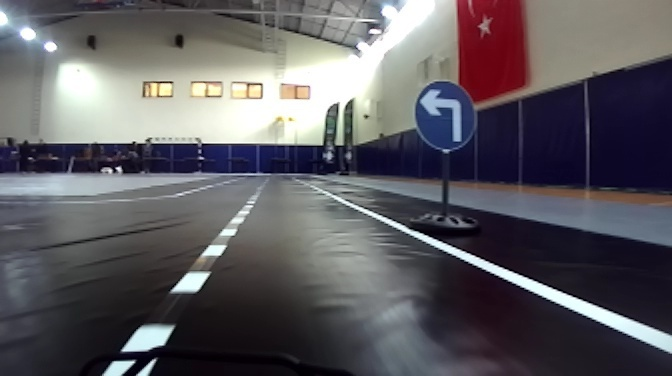sola_donus: (416, 82, 482, 154)
